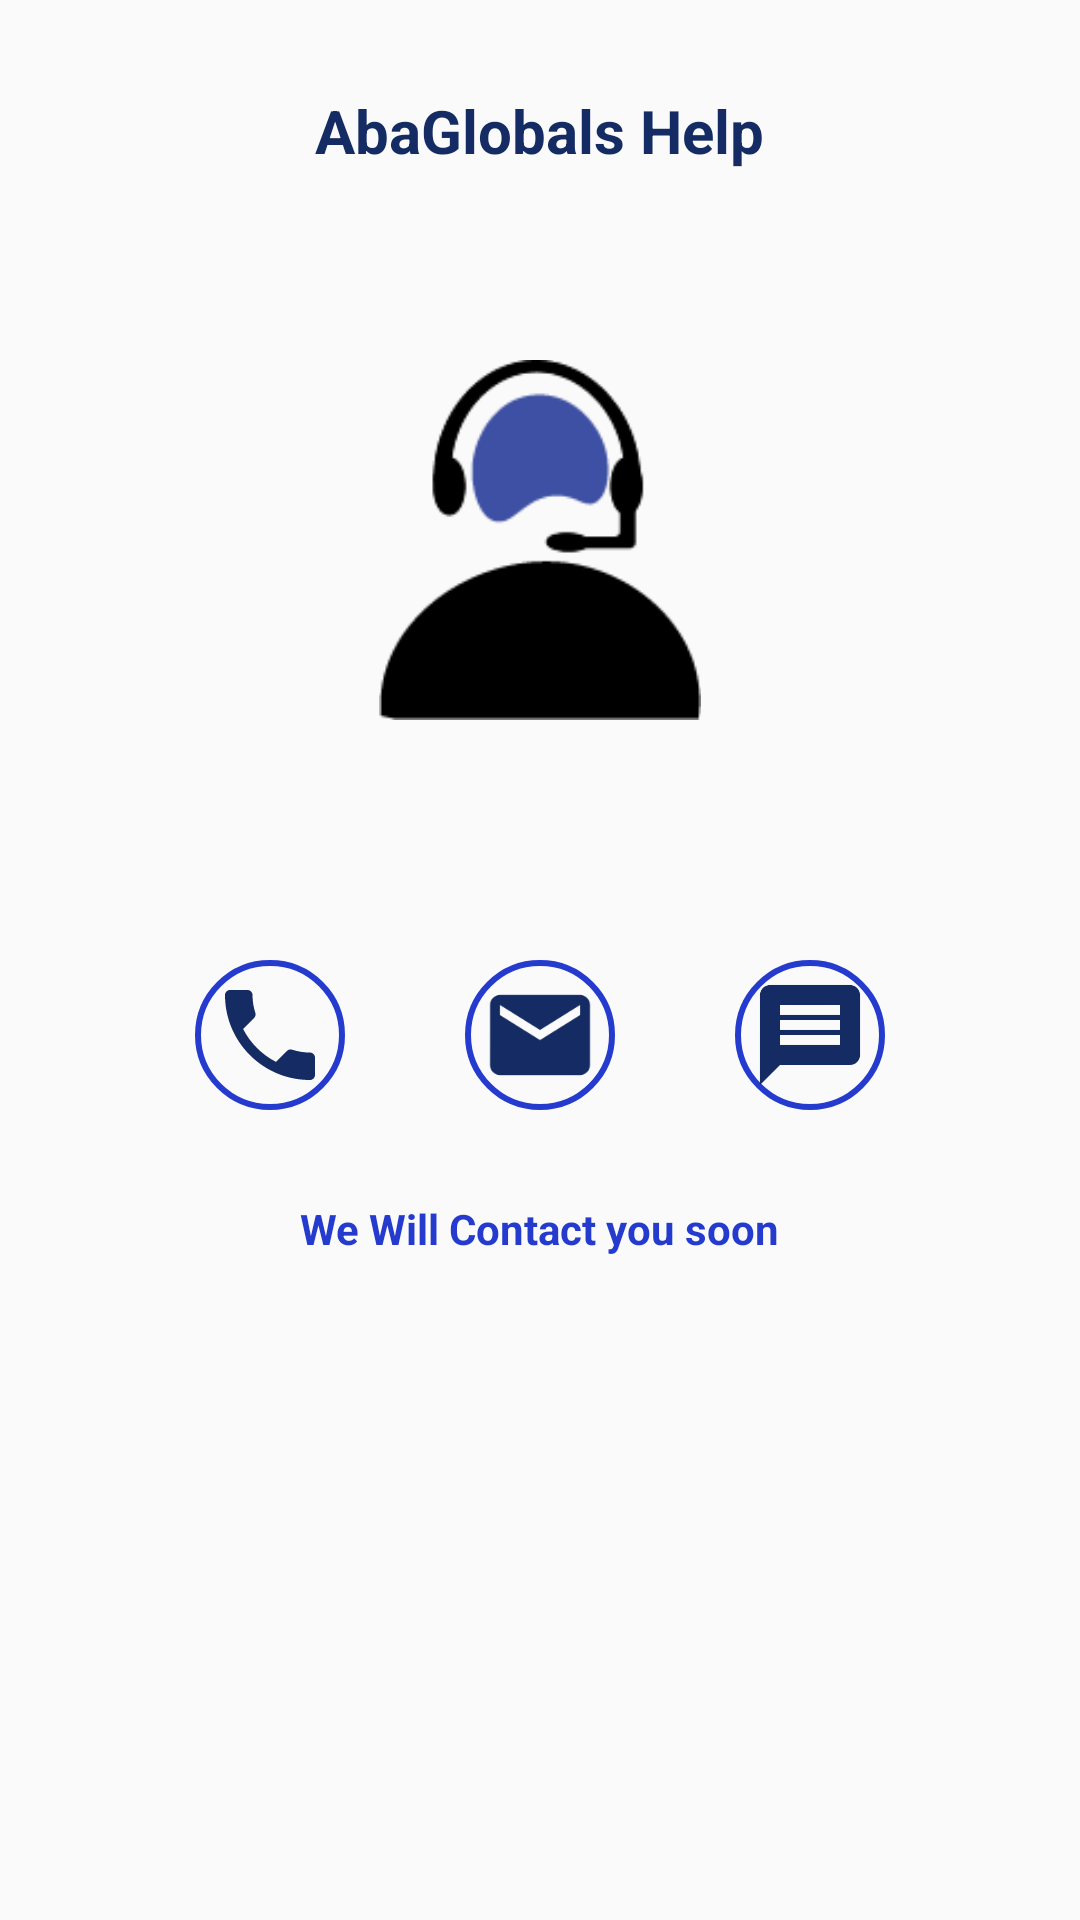

Named icons in this screenshot (1080×1920) and their centers, [x,y]:
mail: [540,1035]
message: [810,1035]
person: [540,540]
phone: [270,1035]
